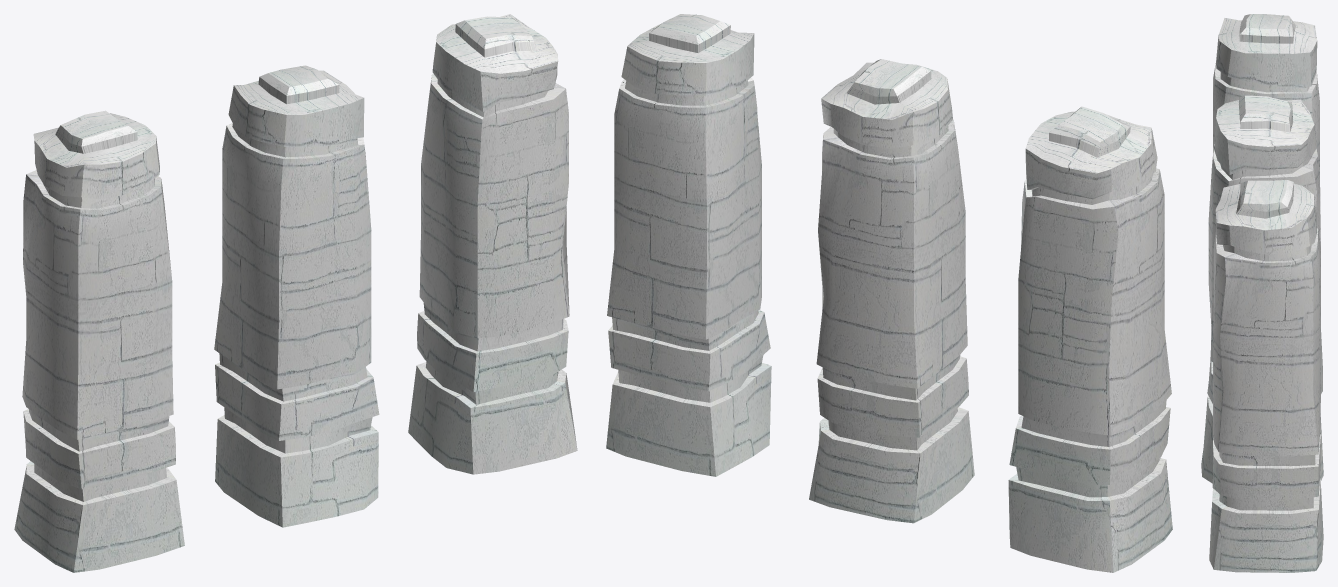
File: Fence_Ston.fbx
3 views of the same model, side by side, from view 1: azimuth 30°, elevation 25°; view 2: azimuth 150°, elevation 25°; view 3: azimuth 270°, elevation 25° (orthographic). The views are drawn at different scales.
Visible parts, largest first — view 1: pCube4, pCube2, pCube3; view 2: pCube3, pCube2, pCube4; view 3: pCube3, pCube4, pCube2.
Part boxes in pixels (x1=…): pCube4: x1=214, y1=65, x2=379, y2=527; pCube2: x1=14, y1=110, x2=184, y2=572; pCube3: x1=408, y1=14, x2=577, y2=474; pCube3: x1=606, y1=14, x2=771, y2=476; pCube2: x1=1008, y1=106, x2=1172, y2=572; pCube4: x1=809, y1=59, x2=974, y2=523; pCube3: x1=1209, y1=180, x2=1323, y2=572; pCube4: x1=1201, y1=95, x2=1323, y2=483; pCube2: x1=1210, y1=14, x2=1322, y2=393.
Size of the model in its own units: 26.86 by 20.73 by 6.39.
